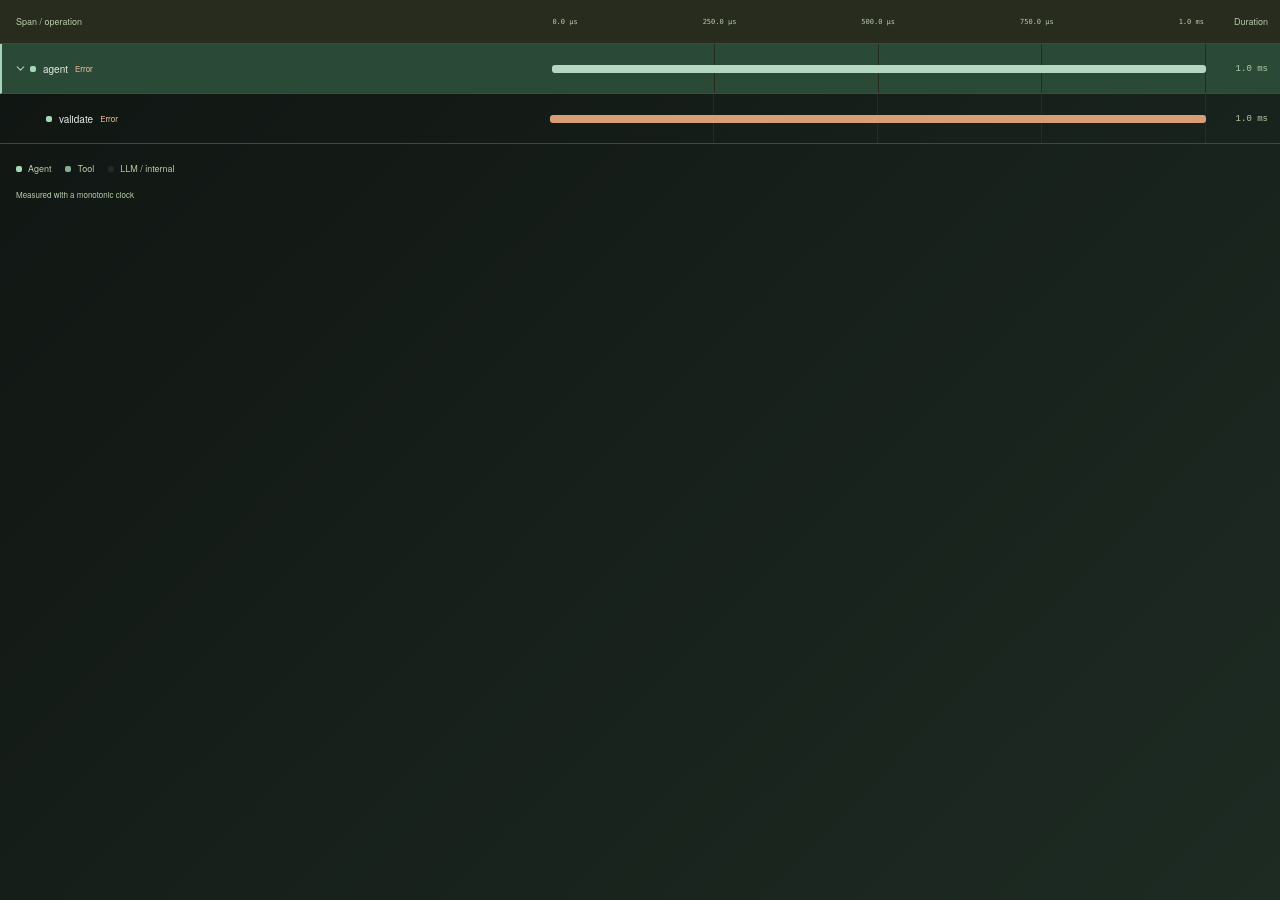
it: selects spans with keyboard and keeps descendant failures visible when folded
The image size is (1280, 900).
Press ArrowDown in the button "agent Error", box [30,56,93,80]
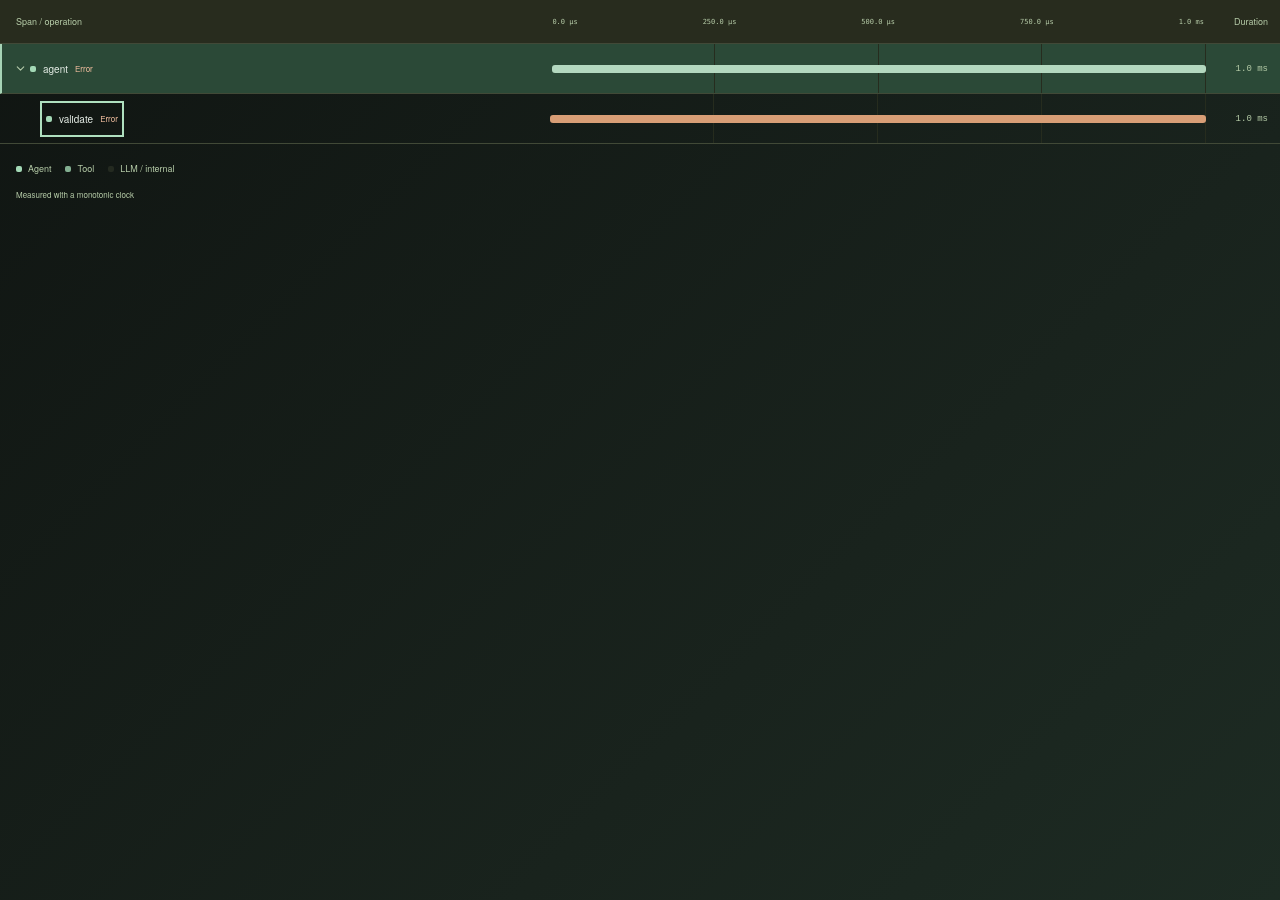
Click the button named "Collapse agent" at (20, 68), box [11,59,30,78]
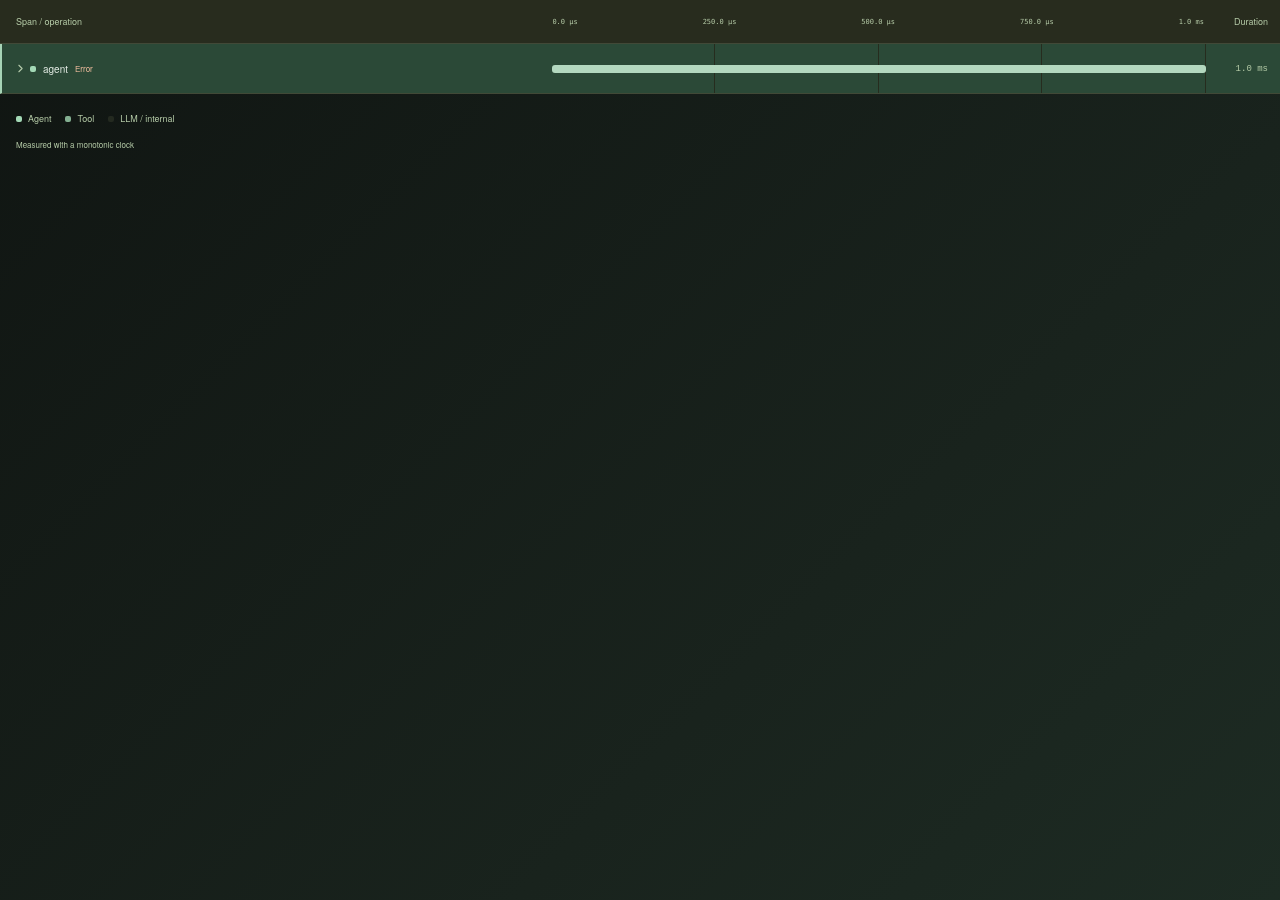
Check: the button "agent Error" is shown, box [30,56,93,80]
Check: the button "validate Error" is gone
